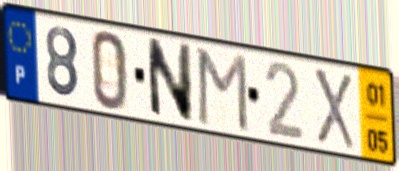0: (89, 28, 129, 114)
2: (262, 59, 306, 142)
8: (44, 24, 82, 100)
M: (195, 45, 251, 136)
N: (144, 34, 195, 125)
X: (310, 65, 358, 154)
